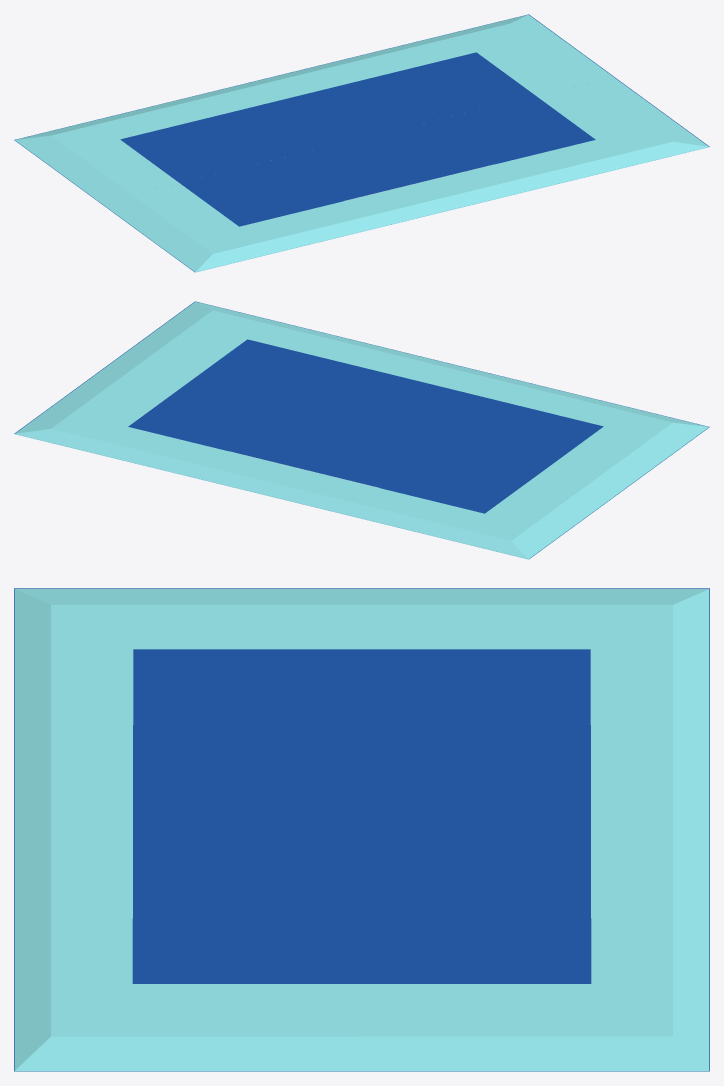
3 views of the same model, one above another, from view 1: azimuth 30°, elevation 25°; view 2: azimuth 150°, elevation 25°; view 3: azimuth 270°, elevation 25° (orthographic). The views are drawn at different scales.
Visible parts, largest first — view 1: 对象004, 对象007, Plane002, Plane001; view 2: 对象007, 对象004, Plane001, Plane002; view 3: 对象004, 对象007, Plane001, Plane002.
Boxes of the visible parts, x1,y1,x2,y2 form: 对象004: (105,81,709,272); 对象007: (15,14,618,205); Plane002: (14,14,618,206); Plane001: (105,80,709,271); 对象007: (15,367,618,559); 对象004: (105,301,709,492); Plane001: (105,301,709,493); Plane002: (14,367,618,558); 对象004: (14,589,361,1071); 对象007: (362,589,709,1071); Plane001: (14,588,361,1071); Plane002: (362,588,709,1071).
Bounding box in the file's own units: 31.86 × 0.6283 × 19.4.
